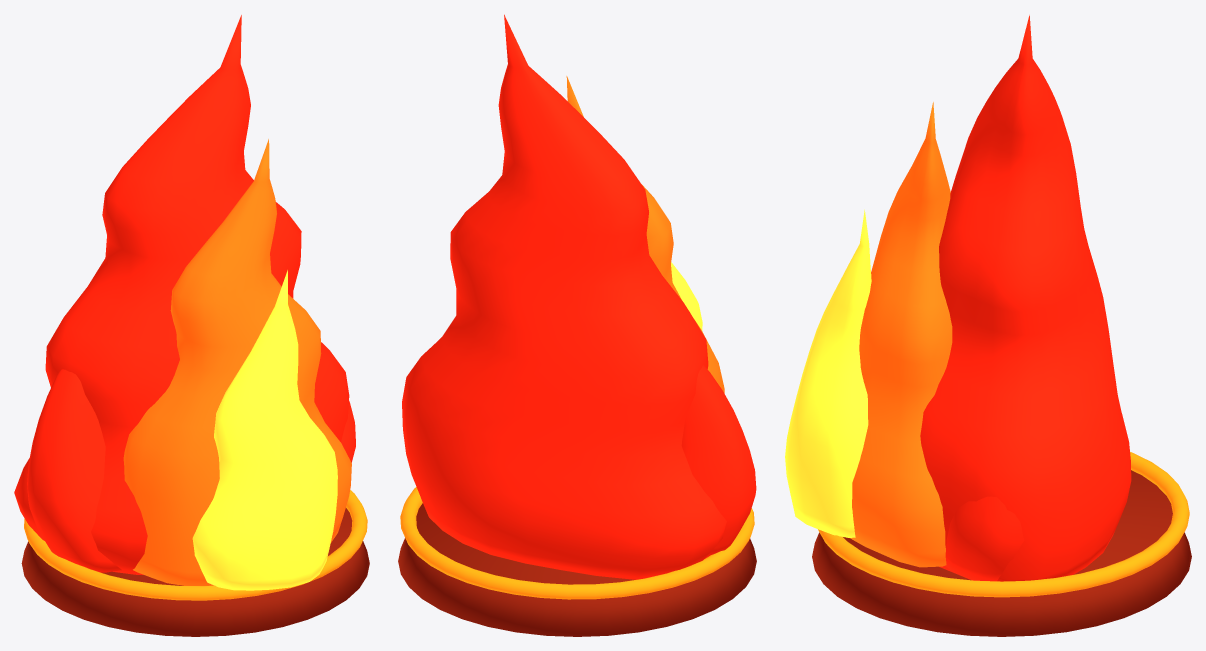
Rendered from streak-flame-v1.glb.
The picture shows the model from 3 angles, left to right: view 1: azimuth 30°, elevation 25°; view 2: azimuth 150°, elevation 25°; view 3: azimuth 270°, elevation 25°; orthographic projection. The views are drawn at different scales.
Visible parts, largest first — view 1: StreakFlame_Outer, StreakFlame_Inner, StreakFlame_Core, StreakFlame_Pedestal, StreakFlame_Halo; view 2: StreakFlame_Outer, StreakFlame_Pedestal, StreakFlame_Halo, StreakFlame_Inner, StreakFlame_Core; view 3: StreakFlame_Outer, StreakFlame_Inner, StreakFlame_Pedestal, StreakFlame_Core, StreakFlame_Halo.
Boxes of the visible parts, x1=… form: StreakFlame_Outer: x1=14, y1=15, x2=355, y2=574; StreakFlame_Inner: x1=123, y1=139, x2=351, y2=585; StreakFlame_Core: x1=192, y1=270, x2=337, y2=590; StreakFlame_Pedestal: x1=21, y1=508, x2=369, y2=636; StreakFlame_Halo: x1=24, y1=490, x2=367, y2=600; StreakFlame_Outer: x1=402, y1=14, x2=756, y2=579; StreakFlame_Pedestal: x1=398, y1=503, x2=756, y2=636; StreakFlame_Halo: x1=400, y1=487, x2=754, y2=599; StreakFlame_Inner: x1=566, y1=76, x2=724, y2=393; StreakFlame_Core: x1=671, y1=262, x2=702, y2=330; StreakFlame_Outer: x1=920, y1=15, x2=1131, y2=581; StreakFlame_Inner: x1=850, y1=102, x2=952, y2=567; StreakFlame_Pedestal: x1=812, y1=470, x2=1191, y2=636; StreakFlame_Core: x1=785, y1=209, x2=871, y2=537; StreakFlame_Halo: x1=818, y1=452, x2=1189, y2=597.
Size of the model in its own units: 1.53 by 2.4 by 1.54.
